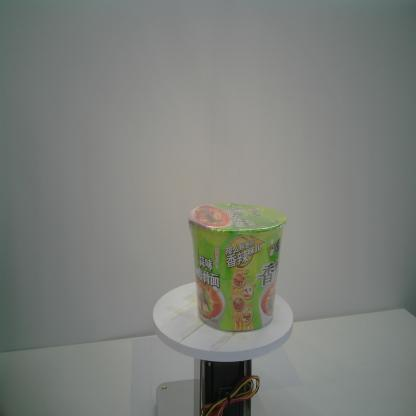Instant Noodles: (187, 201, 288, 332)
